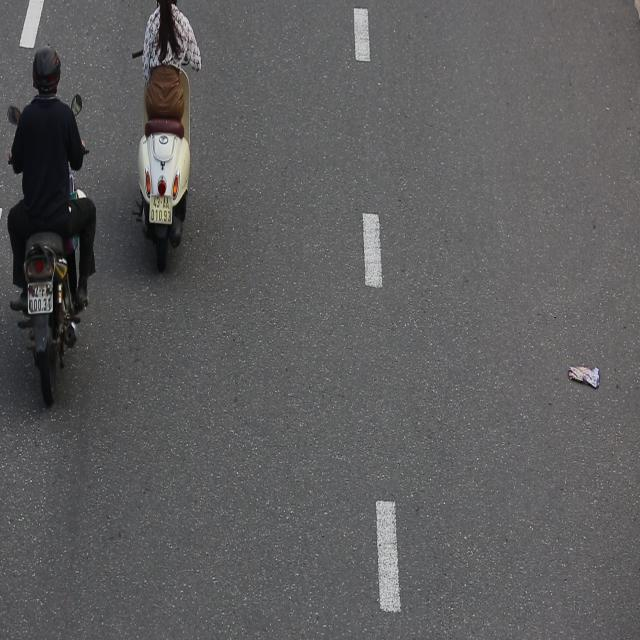motorbike: (0, 31, 106, 409)
